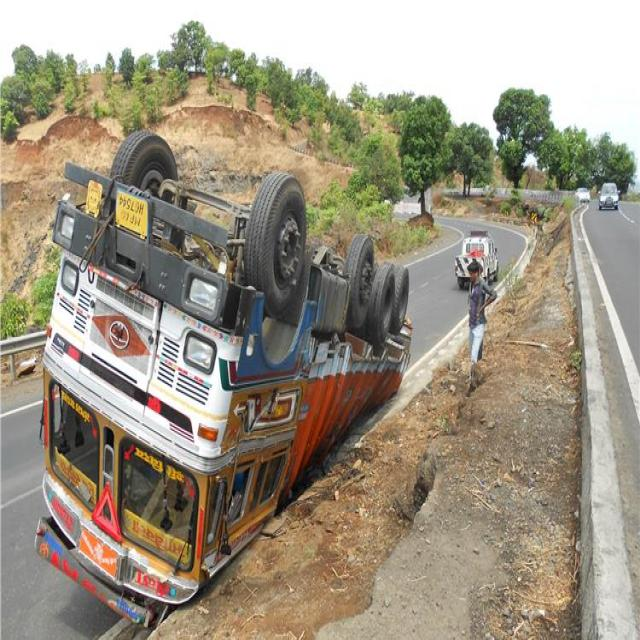accident: (35, 134, 414, 627)
